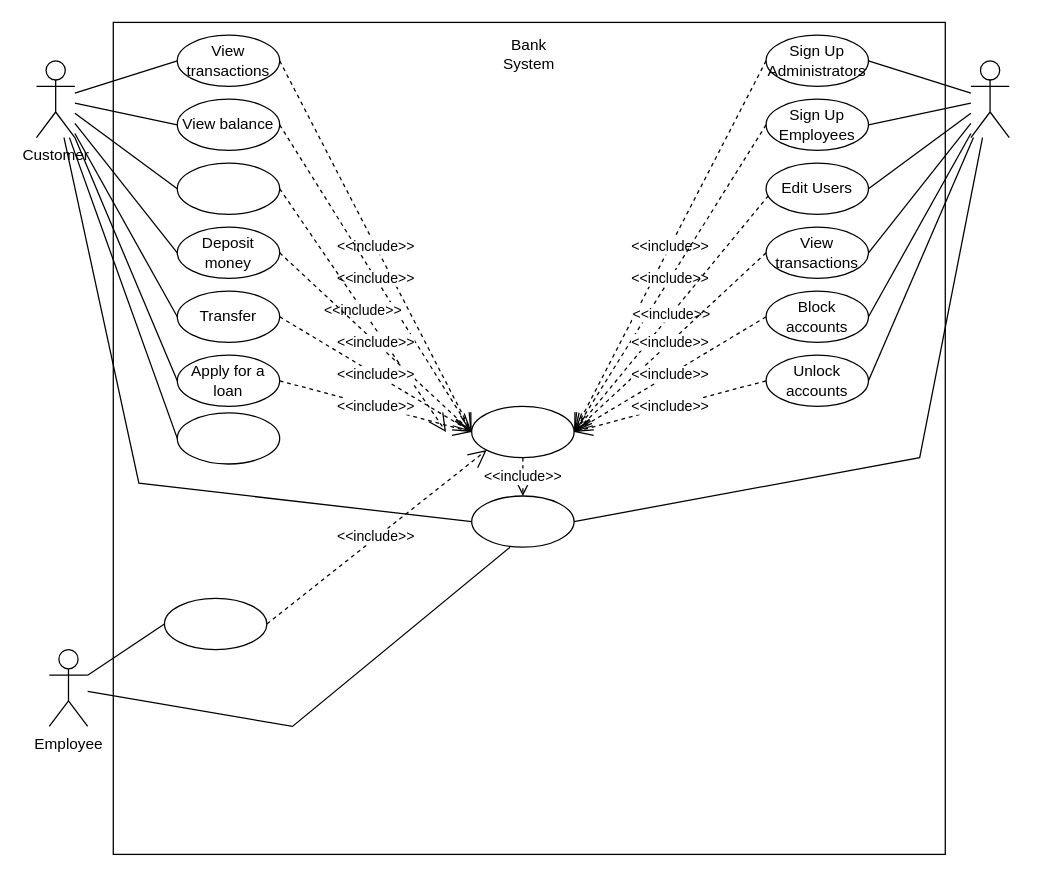
Some shapes in this 1057 by 877 pixel diagram are drawn without their labels. Each missing label, with the centre of its shape:
Administrator: the point at 989,99
Loan system: the point at 215,623
log out: the point at 522,521
Login: the point at 522,431
Sing Up: the point at 228,438
Withdraw money: the point at 228,188
